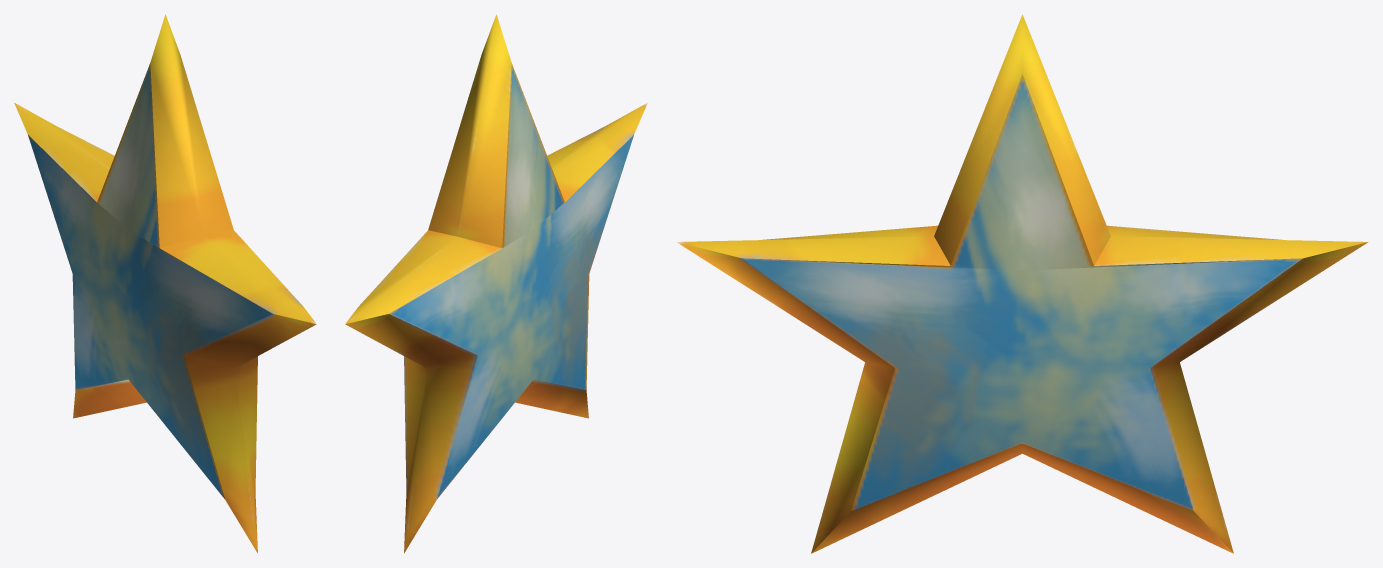
Rendered from star.obj.
3 renders of one model, left to right at view 1: azimuth 30°, elevation 25°; view 2: azimuth 150°, elevation 25°; view 3: azimuth 270°, elevation 25°, orthographic. The views are drawn at different scales.
Visible parts, largest first — view 1: pCube1; view 2: pCube1; view 3: pCube1.
Part boxes in pixels (<box>): pCube1: <box>14,14,316,553</box>; pCube1: <box>345,14,647,553</box>; pCube1: <box>676,14,1368,553</box>.
Bounding box in the file's own units: 0.2859 × 1.74 × 2.02.
1 material, 1 textured.
